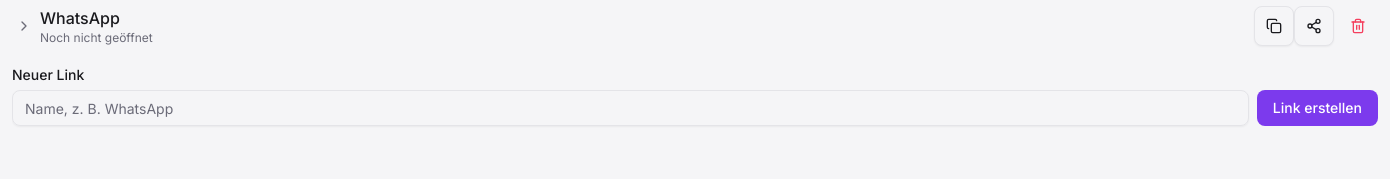
Test: InviteLinks › says that a link was not opened yet
Click the text "WhatsApp".
click(80, 18)  # box [40, 8, 120, 28]
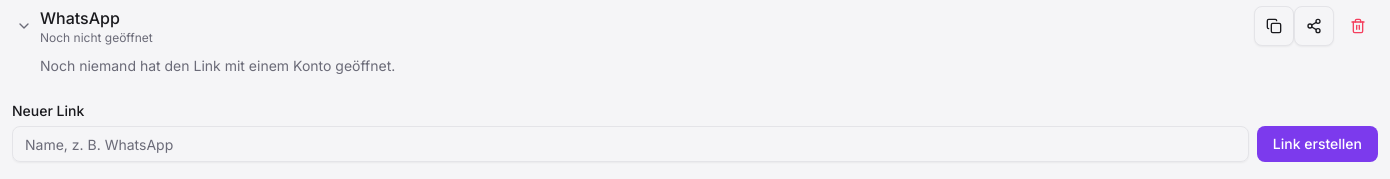
Result: the text "Noch niemand hat den Link mit einem Konto geöffnet." is shown at [40, 57, 395, 74]
